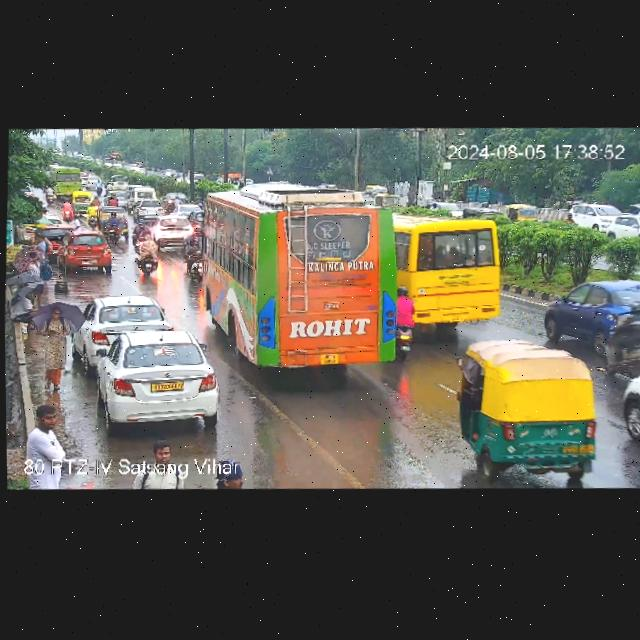bus: (196, 174, 402, 370), (396, 199, 514, 328), (49, 165, 85, 196)
car: (452, 332, 599, 493), (93, 325, 225, 427), (545, 275, 640, 342), (78, 292, 169, 359), (58, 229, 114, 278), (152, 214, 199, 249), (620, 367, 640, 448), (506, 200, 542, 221), (131, 198, 164, 219), (70, 190, 98, 209), (110, 172, 131, 192), (132, 185, 156, 200), (107, 193, 117, 208), (94, 177, 102, 194)
motorcycle: (589, 301, 640, 376), (394, 278, 419, 368), (557, 466, 592, 489), (100, 211, 123, 242), (187, 239, 203, 280), (140, 235, 156, 274), (86, 201, 99, 226), (133, 218, 150, 237), (165, 197, 180, 213), (61, 199, 70, 220), (46, 185, 56, 202)
person: (46, 302, 68, 395), (26, 403, 64, 453), (27, 252, 47, 308), (9, 290, 37, 323), (147, 440, 178, 461), (35, 232, 49, 257)
truck: (564, 199, 640, 241)
